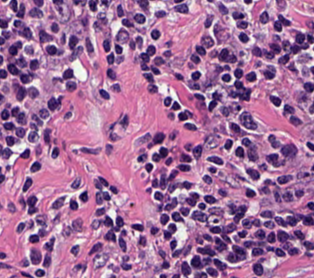nucleus: (240, 112, 256, 129), (39, 30, 52, 42), (116, 30, 128, 42), (192, 211, 206, 221), (72, 218, 82, 231), (202, 36, 213, 47), (267, 154, 278, 165), (247, 169, 259, 179), (215, 238, 225, 250), (29, 8, 42, 17), (208, 156, 222, 164), (27, 87, 38, 97), (52, 198, 63, 208), (248, 148, 257, 160), (44, 238, 53, 250), (17, 87, 25, 100), (270, 96, 280, 106), (1, 148, 11, 158), (219, 49, 228, 60), (71, 177, 80, 188), (224, 223, 235, 232), (69, 36, 77, 48), (193, 145, 201, 157), (23, 178, 31, 190), (17, 4, 24, 17), (134, 14, 144, 23), (22, 28, 31, 38), (270, 44, 280, 53), (46, 45, 56, 54), (8, 64, 17, 74), (154, 133, 163, 143), (81, 148, 99, 153), (27, 196, 36, 206), (172, 212, 182, 221), (275, 217, 285, 226), (105, 231, 115, 240), (176, 4, 187, 12), (260, 12, 268, 23), (48, 98, 56, 109), (204, 195, 215, 203), (86, 38, 92, 52), (140, 53, 149, 62), (63, 69, 72, 78), (246, 72, 255, 81), (144, 73, 153, 82), (66, 82, 75, 91), (39, 109, 48, 118), (28, 132, 37, 141), (31, 162, 40, 171), (234, 213, 243, 222), (36, 215, 45, 224), (138, 0, 148, 8), (17, 113, 25, 123), (209, 208, 222, 214), (205, 16, 212, 27), (121, 116, 128, 127), (184, 123, 195, 130), (219, 4, 227, 13), (151, 30, 159, 39), (239, 33, 247, 42), (147, 45, 155, 54), (196, 46, 205, 54), (252, 47, 260, 56), (154, 57, 163, 65), (107, 69, 115, 78), (21, 74, 29, 83), (148, 84, 157, 92), (33, 115, 41, 124), (230, 123, 239, 131), (16, 128, 24, 137), (235, 147, 243, 156), (21, 149, 29, 158), (99, 177, 108, 185), (255, 230, 264, 238), (119, 238, 125, 250), (237, 21, 247, 28), (274, 21, 281, 31), (9, 45, 16, 55), (209, 100, 216, 110), (139, 134, 149, 141), (161, 214, 168, 224), (116, 216, 123, 226), (103, 40, 109, 51), (243, 89, 249, 100), (178, 165, 189, 171), (261, 211, 272, 217), (160, 175, 165, 188), (191, 55, 199, 63), (17, 58, 25, 66), (151, 66, 159, 74), (234, 69, 242, 77), (192, 71, 200, 79), (100, 90, 108, 98), (159, 148, 167, 156), (203, 175, 211, 183), (246, 189, 254, 197), (154, 192, 162, 200), (180, 207, 188, 215), (242, 219, 250, 227), (89, 1, 96, 10), (122, 19, 131, 26), (51, 23, 58, 32), (30, 60, 37, 69), (264, 71, 273, 78), (1, 110, 8, 119), (6, 136, 13, 145), (137, 154, 146, 161), (181, 154, 190, 161), (169, 170, 176, 179), (169, 183, 176, 192), (80, 192, 87, 201), (70, 200, 77, 209), (105, 217, 112, 226), (264, 221, 273, 228), (17, 223, 24, 232), (267, 233, 274, 242), (29, 235, 38, 242), (10, 0, 16, 10), (155, 11, 165, 17), (44, 130, 49, 142), (274, 191, 280, 201), (132, 224, 142, 230), (277, 1, 284, 9), (25, 46, 32, 54), (265, 51, 273, 58), (227, 55, 235, 62), (222, 74, 230, 81), (234, 81, 242, 88), (212, 93, 220, 100), (178, 113, 186, 120), (242, 138, 250, 145), (152, 154, 160, 161), (187, 198, 195, 205), (96, 208, 104, 215), (92, 220, 99, 228), (168, 224, 175, 232), (222, 235, 230, 242), (117, 5, 122, 16), (34, 0, 43, 6), (107, 54, 113, 63), (0, 69, 6, 78), (4, 123, 13, 129), (225, 140, 231, 149), (52, 148, 58, 157), (95, 180, 101, 189), (233, 13, 243, 18), (96, 193, 101, 203), (112, 84, 119, 91), (172, 102, 179, 109), (1, 20, 7, 28), (115, 45, 121, 53), (195, 94, 203, 100), (164, 97, 170, 105), (12, 107, 18, 115), (222, 107, 228, 115), (103, 192, 109, 200), (8, 203, 14, 211), (28, 207, 36, 213), (238, 231, 246, 237), (139, 237, 145, 245), (170, 240, 176, 248), (244, 241, 252, 247), (136, 37, 141, 46), (211, 227, 220, 232), (14, 20, 21, 26), (141, 63, 147, 70), (146, 164, 152, 171), (183, 182, 190, 188), (111, 186, 117, 193), (219, 189, 226, 195), (191, 193, 198, 199), (164, 231, 170, 238), (204, 234, 211, 240), (110, 134, 118, 139), (152, 179, 157, 187), (165, 204, 173, 209), (130, 40, 134, 49), (272, 141, 278, 147), (199, 203, 205, 209), (151, 228, 157, 234), (14, 42, 21, 47), (175, 74, 182, 79), (269, 135, 274, 142), (3, 32, 9, 37), (164, 51, 170, 56), (166, 158, 171, 164), (0, 37, 4, 44), (263, 188, 268, 193), (254, 220, 259, 225), (209, 168, 215, 172), (0, 175, 3, 182), (193, 84, 198, 88), (65, 113, 70, 117), (40, 230, 43, 235), (62, 35, 64, 42), (185, 145, 189, 148), (245, 1, 250, 3), (0, 57, 2, 62)
